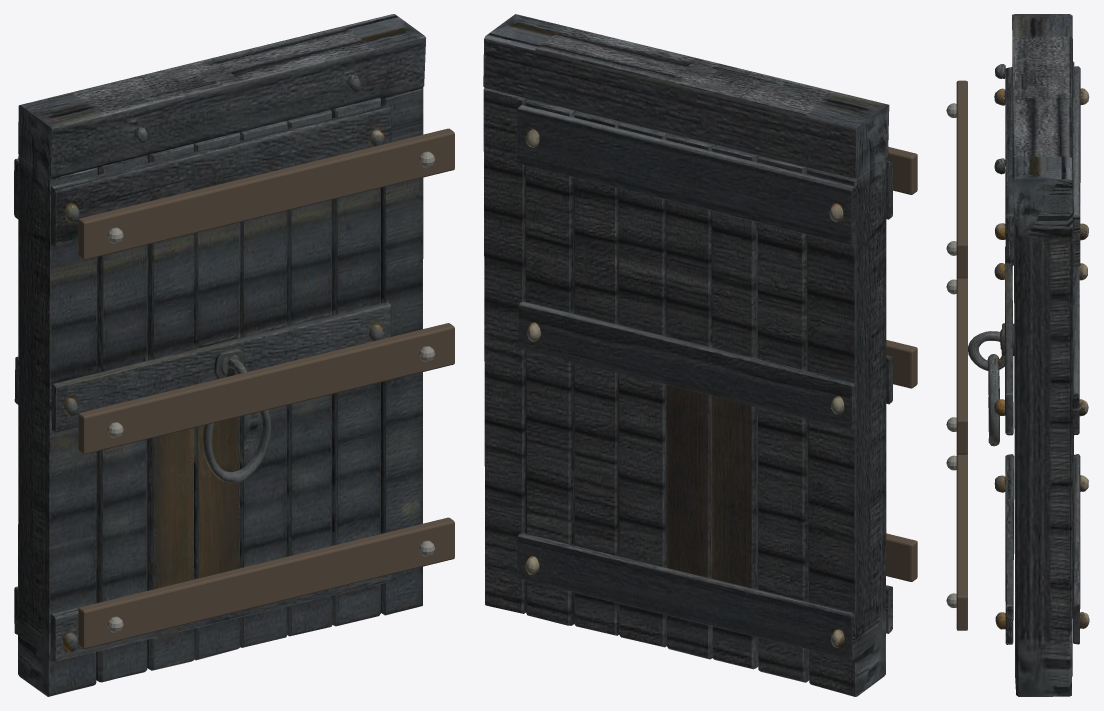
File: degirmen_kapisi.glb
3 views of the same model, side by side, from view 1: azimuth 30°, elevation 25°; view 2: azimuth 150°, elevation 25°; view 3: azimuth 270°, elevation 25° (orthographic). The views are drawn at different scales.
Visible parts, largest first — view 1: Mesh_0, Riveted horizontal iron band.001, Riveted horizontal iron band.002, Riveted horizontal iron band; view 2: Mesh_0, Riveted horizontal iron band, Riveted horizontal iron band.001, Riveted horizontal iron band.002; view 3: Mesh_0, Riveted horizontal iron band.002, Riveted horizontal iron band, Riveted horizontal iron band.001.
Part boxes in pixels (x1,y1,x2,y2): Mesh_0: [14, 14, 426, 696]; Riveted horizontal iron band.001: [78, 323, 454, 454]; Riveted horizontal iron band.002: [78, 128, 454, 259]; Riveted horizontal iron band: [78, 517, 454, 648]; Mesh_0: [483, 14, 892, 696]; Riveted horizontal iron band: [886, 533, 917, 581]; Riveted horizontal iron band.001: [886, 340, 917, 388]; Riveted horizontal iron band.002: [886, 147, 917, 194]; Mesh_0: [968, 14, 1089, 696]; Riveted horizontal iron band.002: [956, 80, 967, 278]; Riveted horizontal iron band: [956, 453, 967, 630]; Riveted horizontal iron band.001: [956, 277, 967, 454].
Bounding box in the file's own units: 0.685 × 1 × 0.2505.
Materials: 3 (1 with a texture image).
